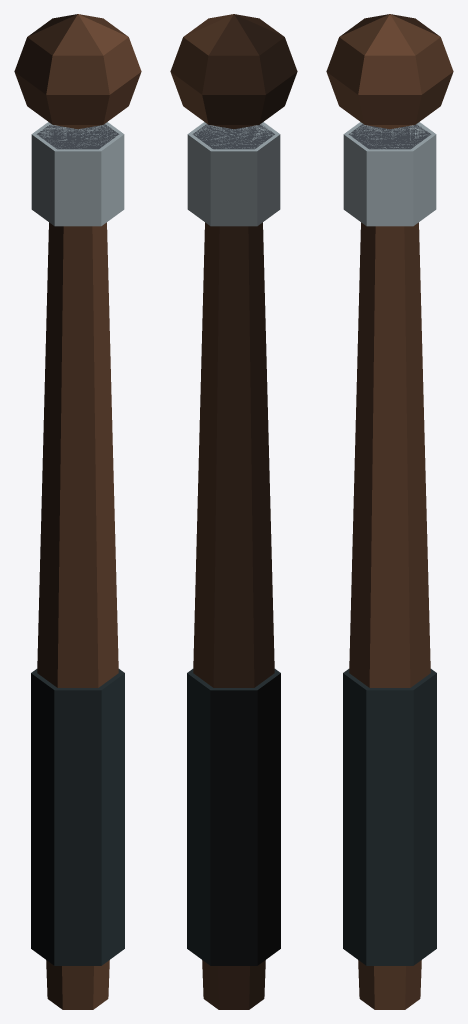
Rendered from mage_wand_1.gltf.
3 renders of one model, left to right at view 1: azimuth 30°, elevation 25°; view 2: azimuth 210°, elevation 25°; view 3: azimuth 330°, elevation 25°, orthographic.
Visible parts, largest first — view 1: mage_wand_1; view 2: mage_wand_1; view 3: mage_wand_1.
Boxes of the visible parts, <box> form: mage_wand_1: <box>14,14,141,1009</box>; mage_wand_1: <box>170,14,297,1009</box>; mage_wand_1: <box>326,14,453,1009</box>.
Bounding box in the file's own units: 0.0797 × 0.786 × 0.092.
1 material, 1 textured.
